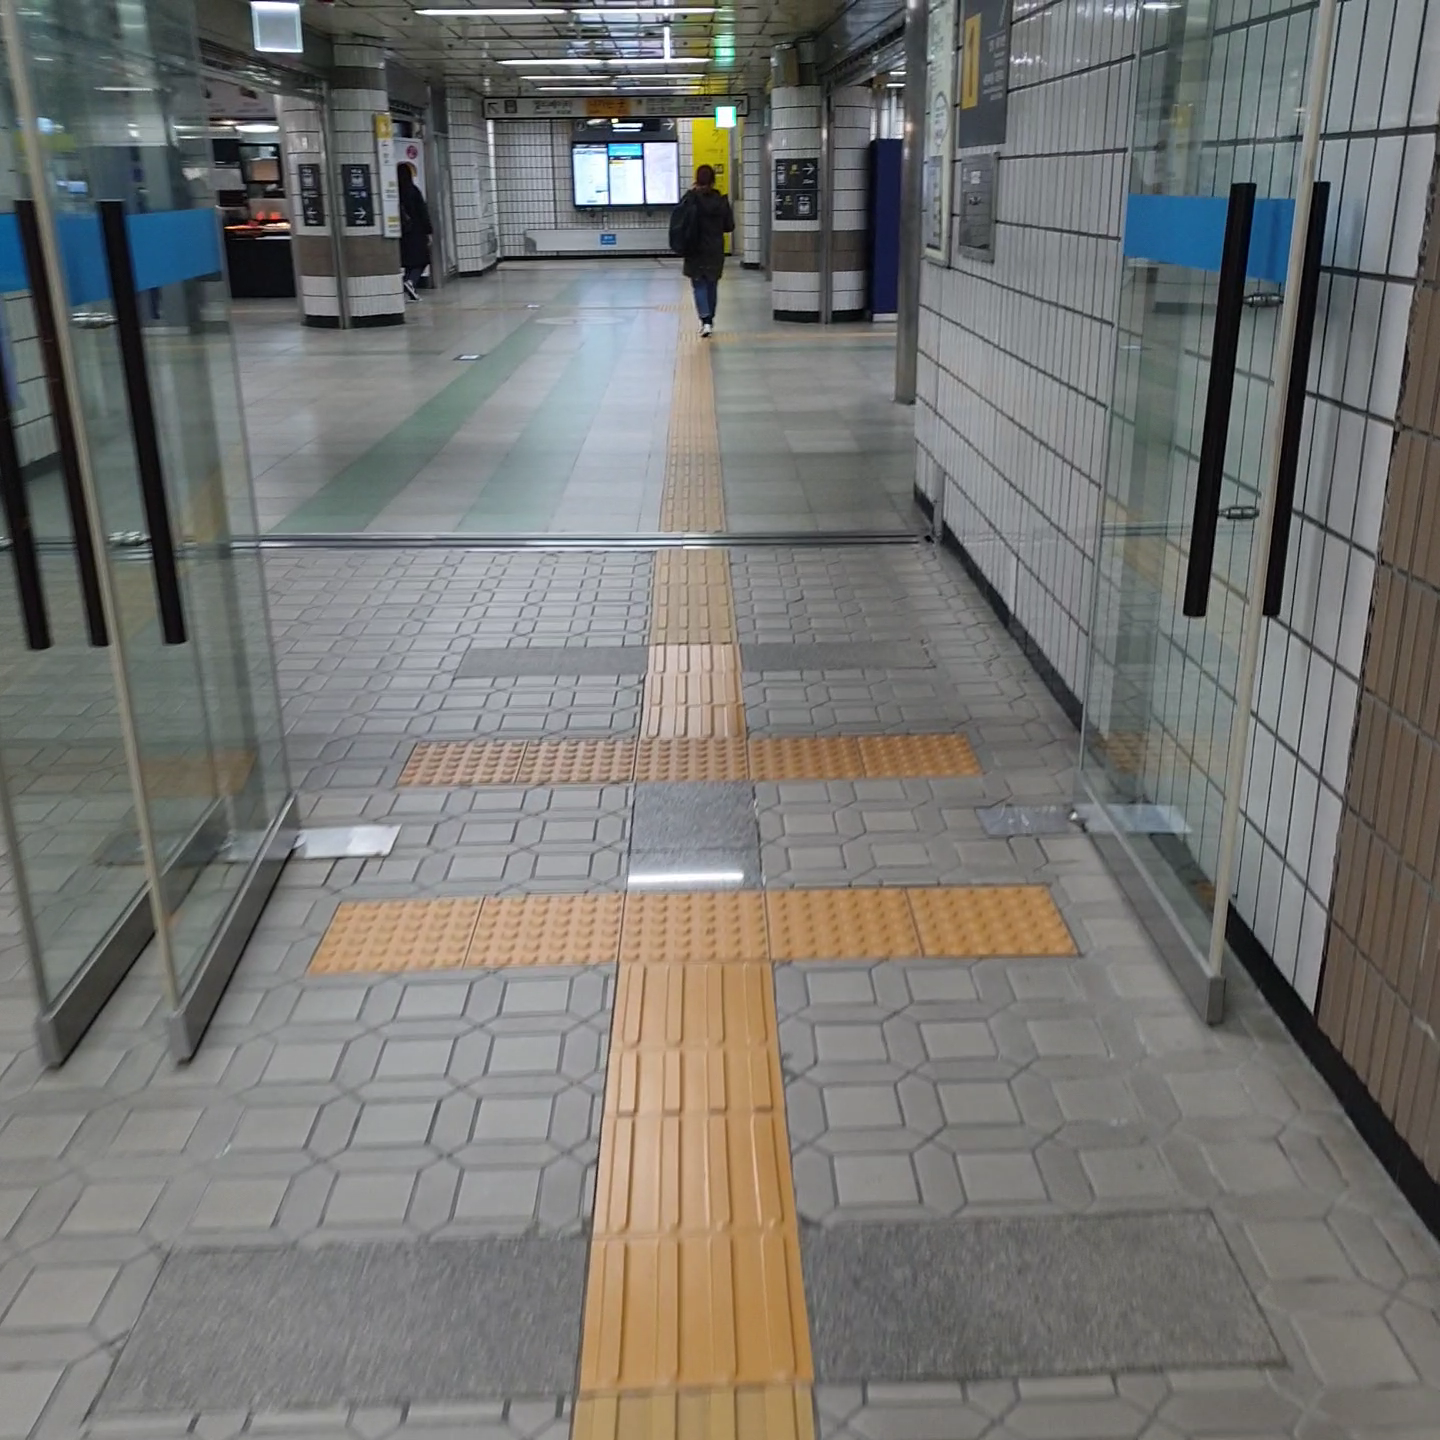dot: (622, 880, 770, 968), (907, 884, 1073, 959), (469, 889, 618, 971), (767, 889, 919, 967), (335, 899, 464, 975), (634, 738, 753, 790), (524, 732, 637, 785), (862, 732, 977, 783), (411, 738, 522, 790), (753, 731, 862, 781)
line: (588, 1241, 803, 1394), (603, 1048, 781, 1233), (613, 965, 782, 1051), (641, 700, 750, 738), (647, 603, 735, 645), (644, 673, 742, 705), (649, 641, 740, 674)
